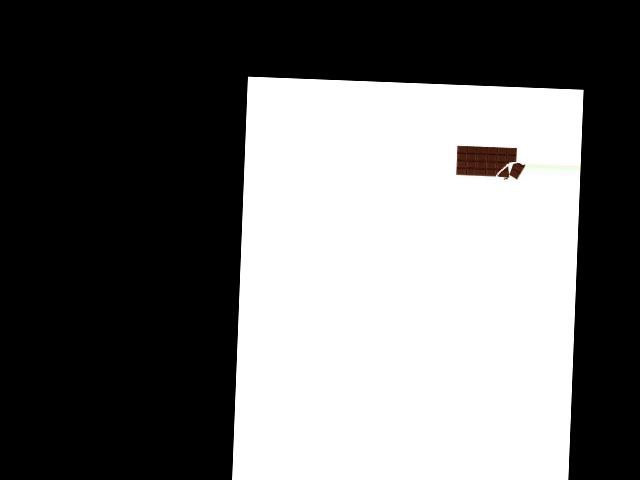chocolate: (454, 140, 526, 186)
